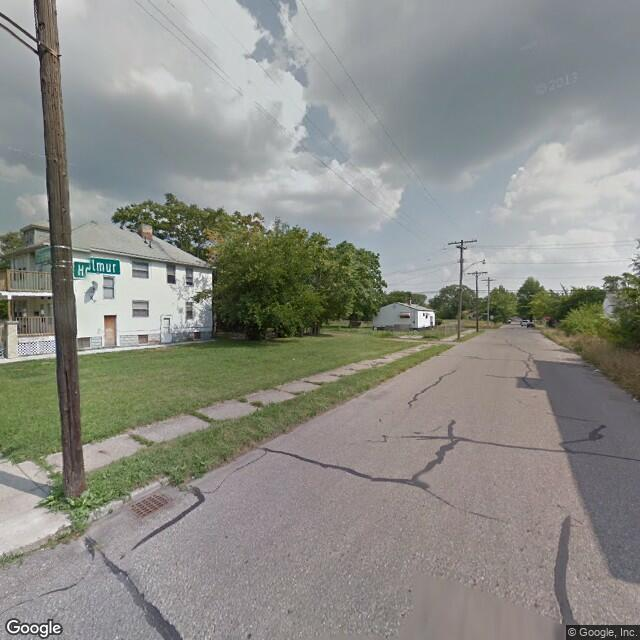litter: (592, 365, 603, 372), (633, 396, 638, 403), (290, 356, 295, 363)
